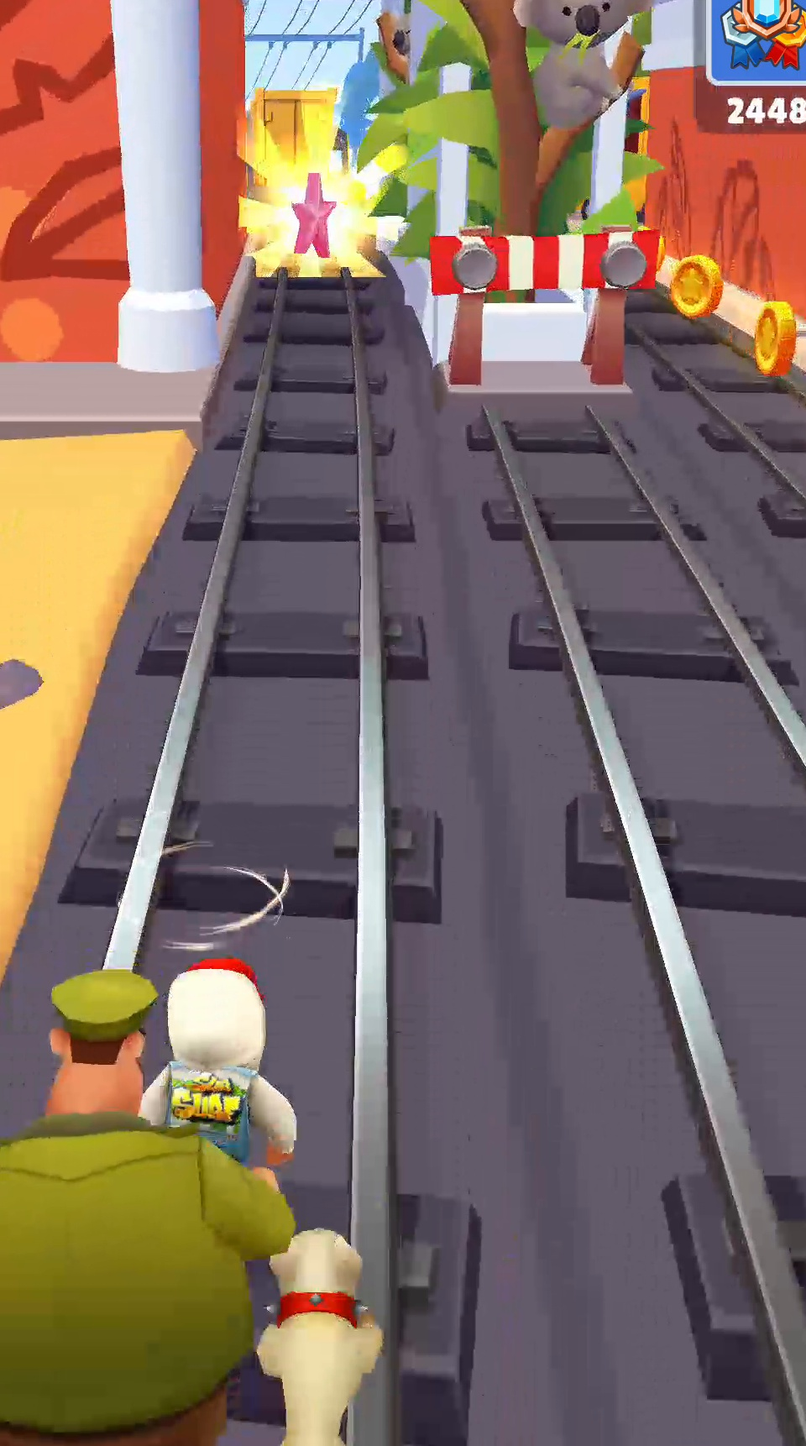block pillar: (359, 0, 658, 404)
train: (253, 88, 335, 180)
